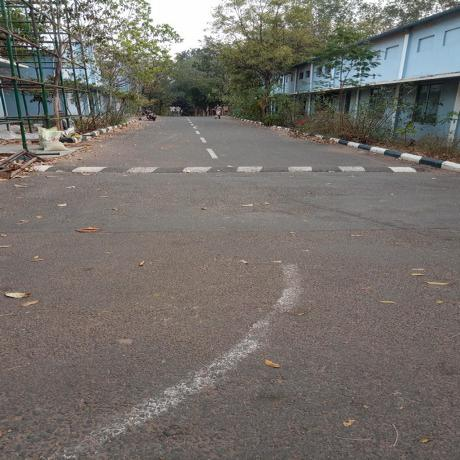Speed Bump: (15, 162, 434, 174)
